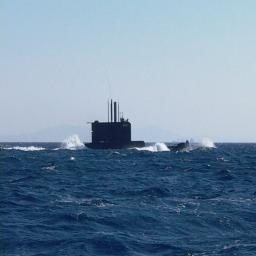submarine: (57, 124, 196, 152)
